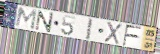5: (60, 14, 77, 37)
F: (122, 24, 144, 47)
I: (85, 18, 94, 41)
M: (14, 7, 38, 31)
N: (34, 10, 55, 34)
X: (104, 21, 123, 46)
